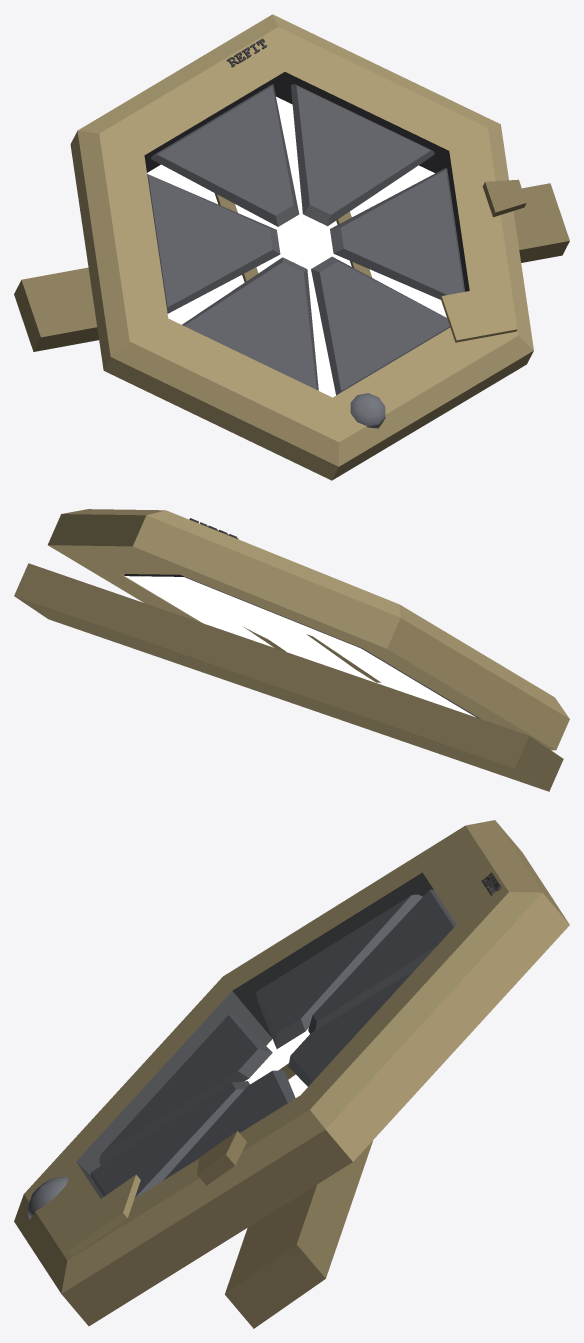
The model's file is refit.glb.
3 renders of one model, top to bottom at view 1: azimuth 30°, elevation 25°; view 2: azimuth 150°, elevation 25°; view 3: azimuth 270°, elevation 25°, orthographic. The views are drawn at different scales.
Visible parts, largest first — view 1: pkt_refit_frame, pkt_refit_leaf_0, pkt_refit_leaf_1, pkt_refit_leaf_5, pkt_refit_leaf_4, pkt_refit_leaf_2, pkt_refit_leaf_3, pkt_refit_glow, pkt_refit_srail, pkt_refit_throat, pkt_refit_tally, pkt_refit_detent (+1 smaller); view 2: pkt_refit_frame, pkt_refit_srail, pkt_refit_glow, pkt_refit_throat; view 3: pkt_refit_frame, pkt_refit_srail, pkt_refit_throat, pkt_refit_leaf_3, pkt_refit_leaf_2, pkt_refit_leaf_1, pkt_refit_leaf_4, pkt_refit_leaf_5, pkt_refit_leaf_0, pkt_refit_tally, pkt_refit_detent, pkt_refit_glow (+1 smaller).
Part boxes in pixels (bbox=[...]): pkt_refit_frame: bbox=[70, 14, 533, 480]; pkt_refit_leaf_0: bbox=[290, 84, 434, 226]; pkt_refit_leaf_1: bbox=[150, 84, 299, 226]; pkt_refit_leaf_5: bbox=[330, 168, 465, 299]; pkt_refit_leaf_4: bbox=[311, 256, 450, 395]; pkt_refit_leaf_2: bbox=[147, 174, 280, 313]; pkt_refit_leaf_3: bbox=[182, 257, 318, 390]; pkt_refit_glow: bbox=[147, 96, 446, 397]; pkt_refit_srail: bbox=[14, 183, 569, 351]; pkt_refit_throat: bbox=[144, 72, 469, 291]; pkt_refit_tally: bbox=[440, 285, 517, 342]; pkt_refit_detent: bbox=[482, 179, 526, 217]; pkt_refit_frame: bbox=[48, 509, 569, 750]; pkt_refit_srail: bbox=[14, 563, 563, 791]; pkt_refit_glow: bbox=[124, 576, 475, 717]; pkt_refit_throat: bbox=[124, 574, 479, 718]; pkt_refit_frame: bbox=[14, 820, 569, 1326]; pkt_refit_srail: bbox=[225, 1141, 372, 1328]; pkt_refit_throat: bbox=[76, 872, 433, 1198]; pkt_refit_leaf_3: bbox=[99, 1015, 272, 1165]; pkt_refit_leaf_2: bbox=[256, 894, 422, 1048]; pkt_refit_leaf_1: bbox=[308, 889, 456, 1033]; pkt_refit_leaf_4: bbox=[90, 1081, 249, 1197]; pkt_refit_leaf_5: bbox=[163, 1070, 295, 1180]; pkt_refit_leaf_0: bbox=[288, 970, 414, 1086]; pkt_refit_tally: bbox=[68, 1174, 140, 1256]; pkt_refit_detent: bbox=[197, 1131, 246, 1185]; pkt_refit_glow: bbox=[245, 1028, 309, 1097].
Size of the model in its own units: 0.0707 by 0.042 by 0.0479.
